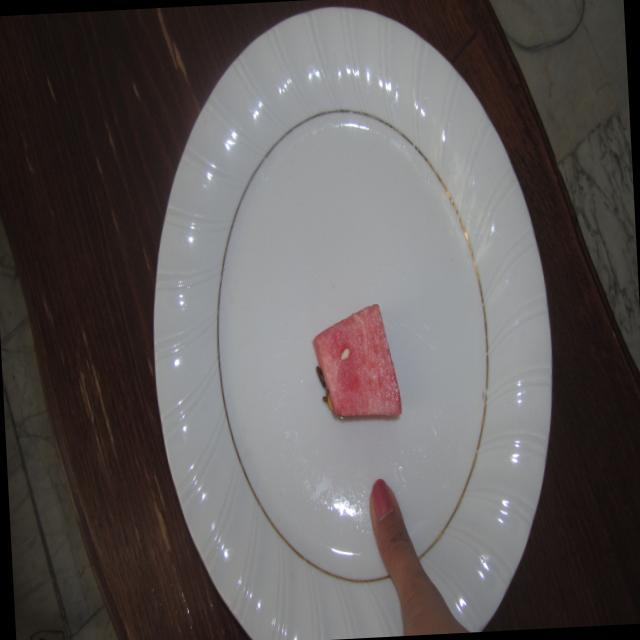Watermelon: (302, 293, 423, 442)
